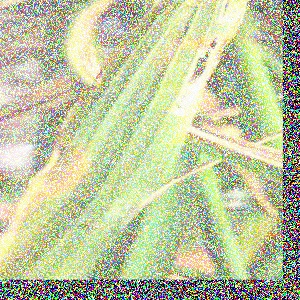Leaf_Blast: (15, 133, 137, 280)
